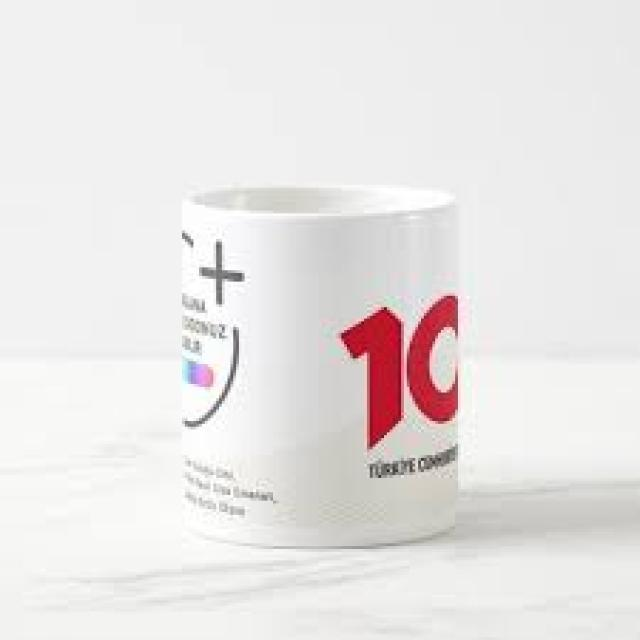taza: (180, 184, 460, 548)
